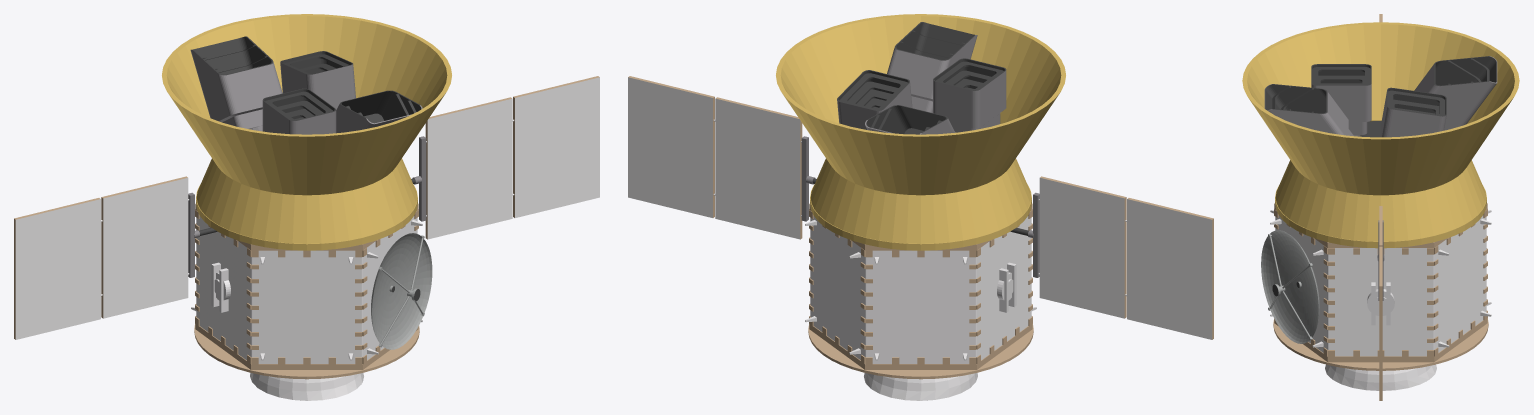
The model's file is space-tess.glb.
The picture shows the model from 3 angles, left to right: view 1: azimuth 30°, elevation 25°; view 2: azimuth 150°, elevation 25°; view 3: azimuth 270°, elevation 25°; orthographic projection. The views are drawn at different scales.
Parts seen in each view (by area): view 1: Layer_0; view 2: Layer_0; view 3: Layer_0.
Boxes of the visible parts, left/top/right/bottom form: Layer_0: left=14, top=14, right=599, bottom=400; Layer_0: left=628, top=14, right=1213, bottom=400; Layer_0: left=1242, top=14, right=1519, bottom=400.
Bounding box in the file's own units: 37.1 × 18.27 × 15.97.
3 materials, 3 textured.
